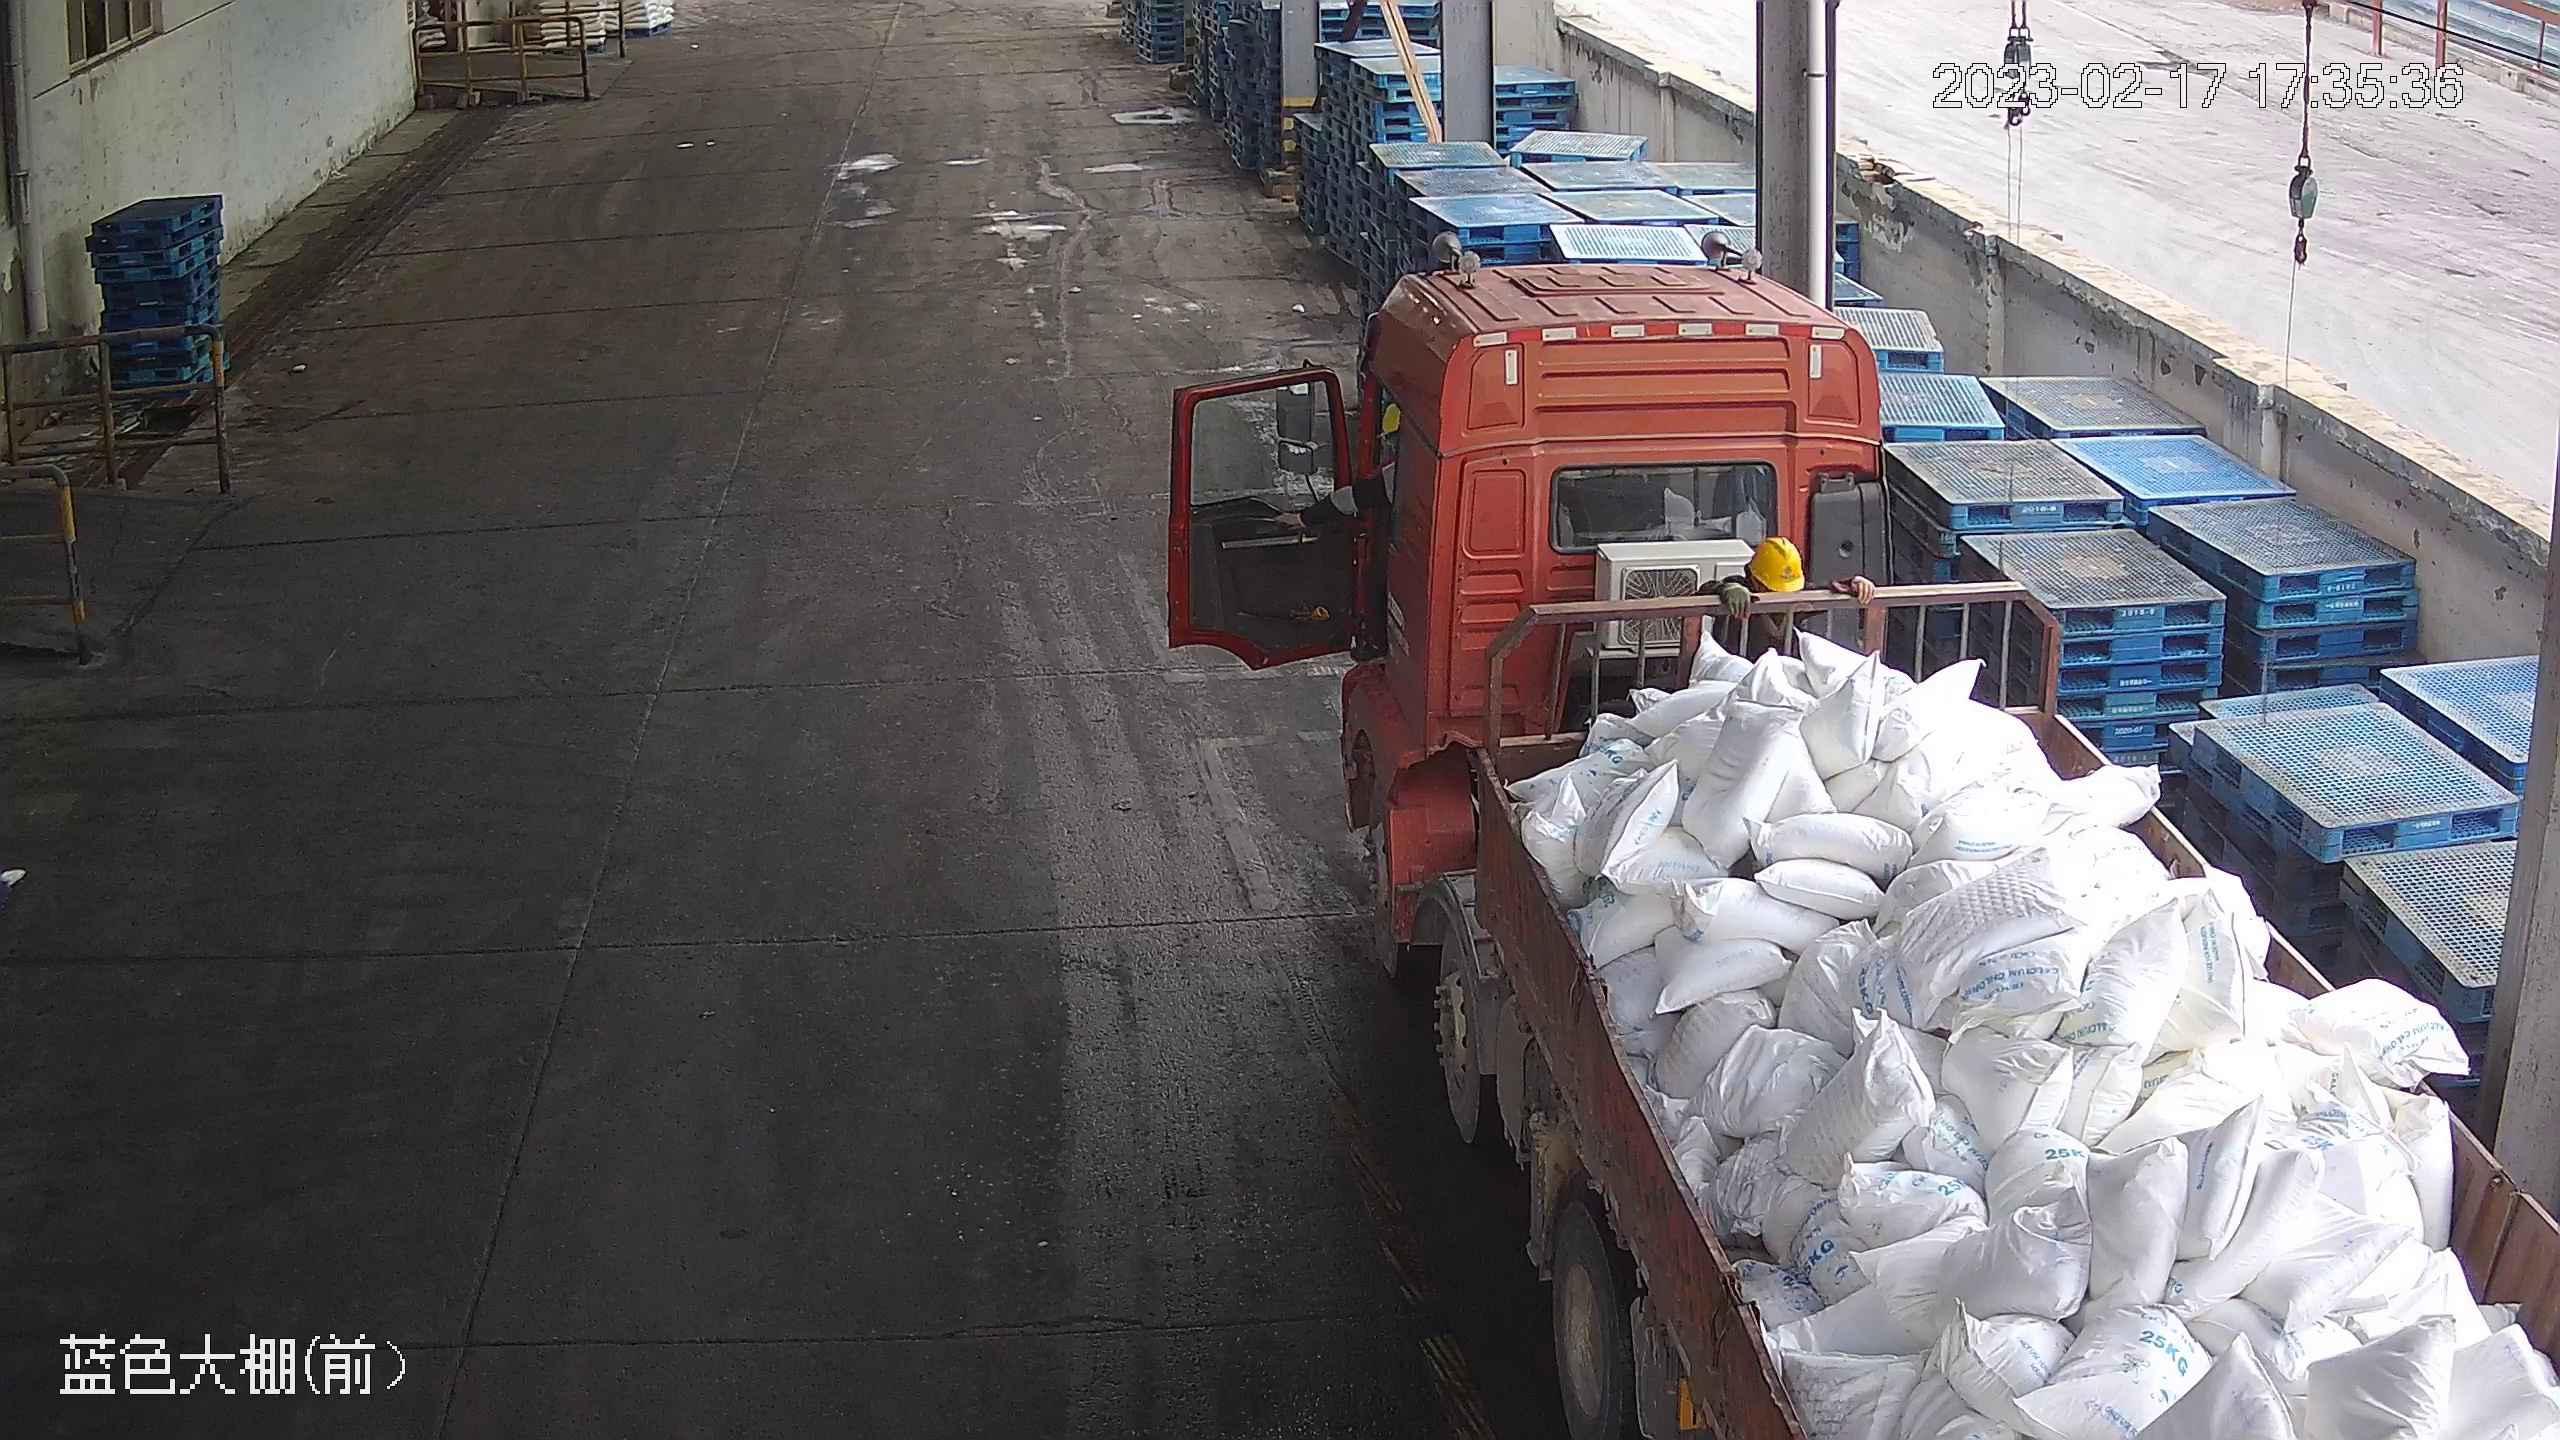helmet: (1744, 536, 1807, 591)
truck: (1338, 257, 2560, 1440)
